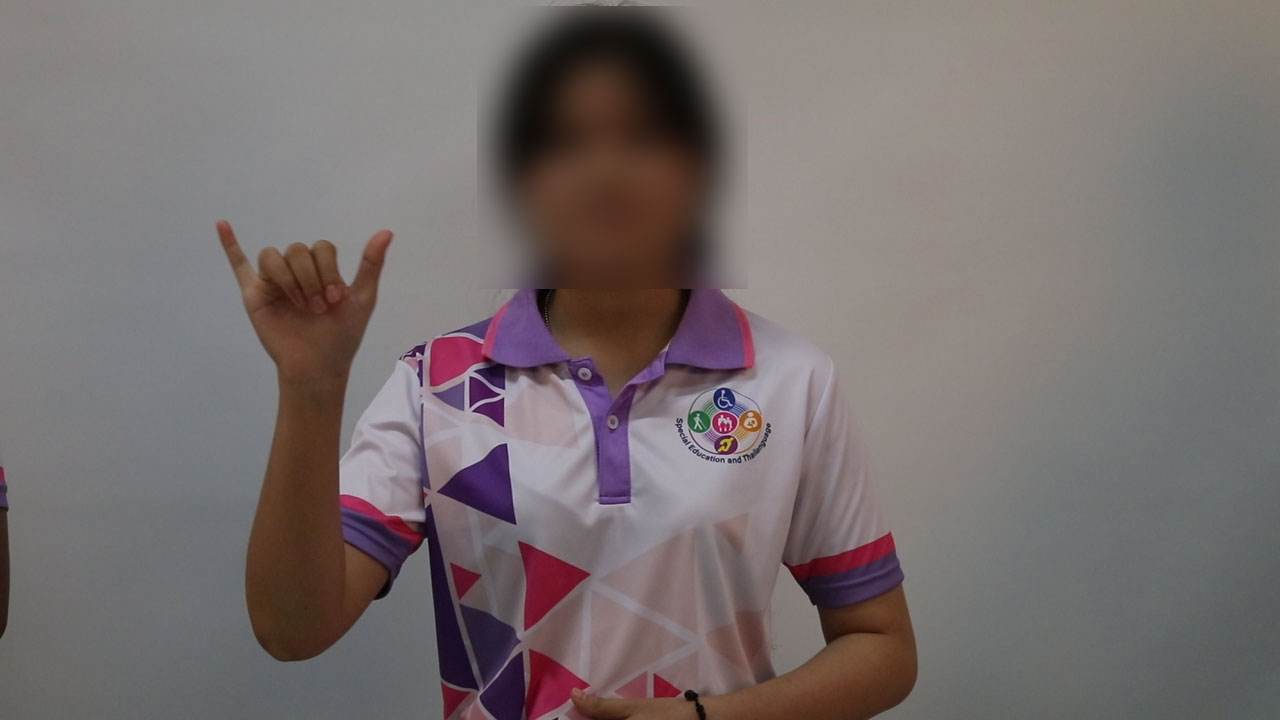yor: (192, 205, 418, 394)
